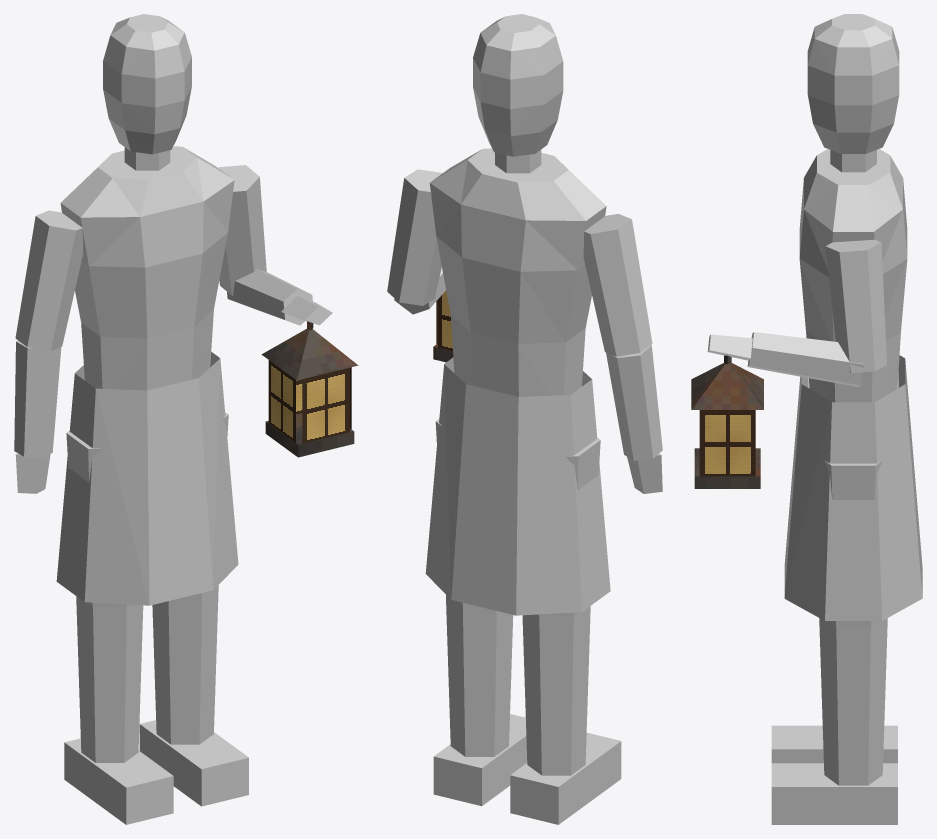
Rendered from sereno.obj.
3 views of the same model, side by side, from view 1: azimuth 30°, elevation 25°; view 2: azimuth 150°, elevation 25°; view 3: azimuth 270°, elevation 25° (orthographic).
Parts seen in each view (by area): view 1: sereno; view 2: sereno; view 3: sereno.
Boxes of the visible parts, x1=… form: sereno: x1=14, y1=14, x2=358, y2=824; sereno: x1=387, y1=14, x2=662, y2=824; sereno: x1=691, y1=14, x2=922, y2=824.
Bounding box in the file's own units: 0.676 × 1.83 × 0.4949.
3 materials, 2 textured.
